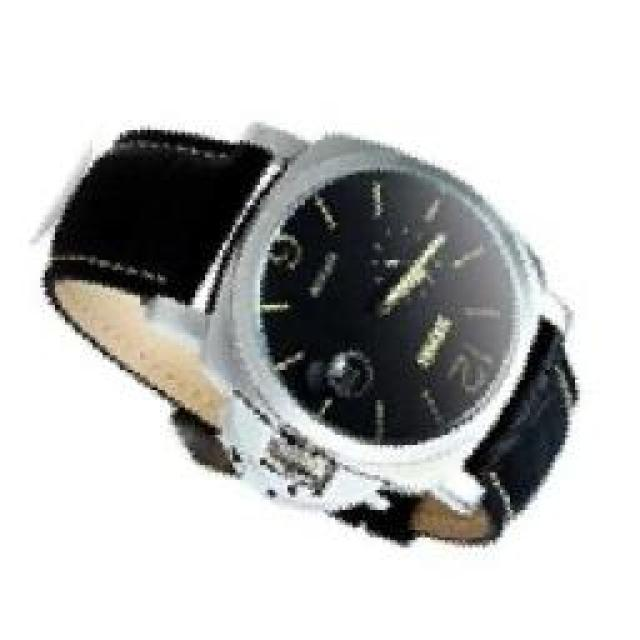saat: (31, 74, 601, 572)
